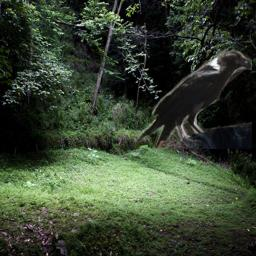Crow: (132, 47, 252, 149)
